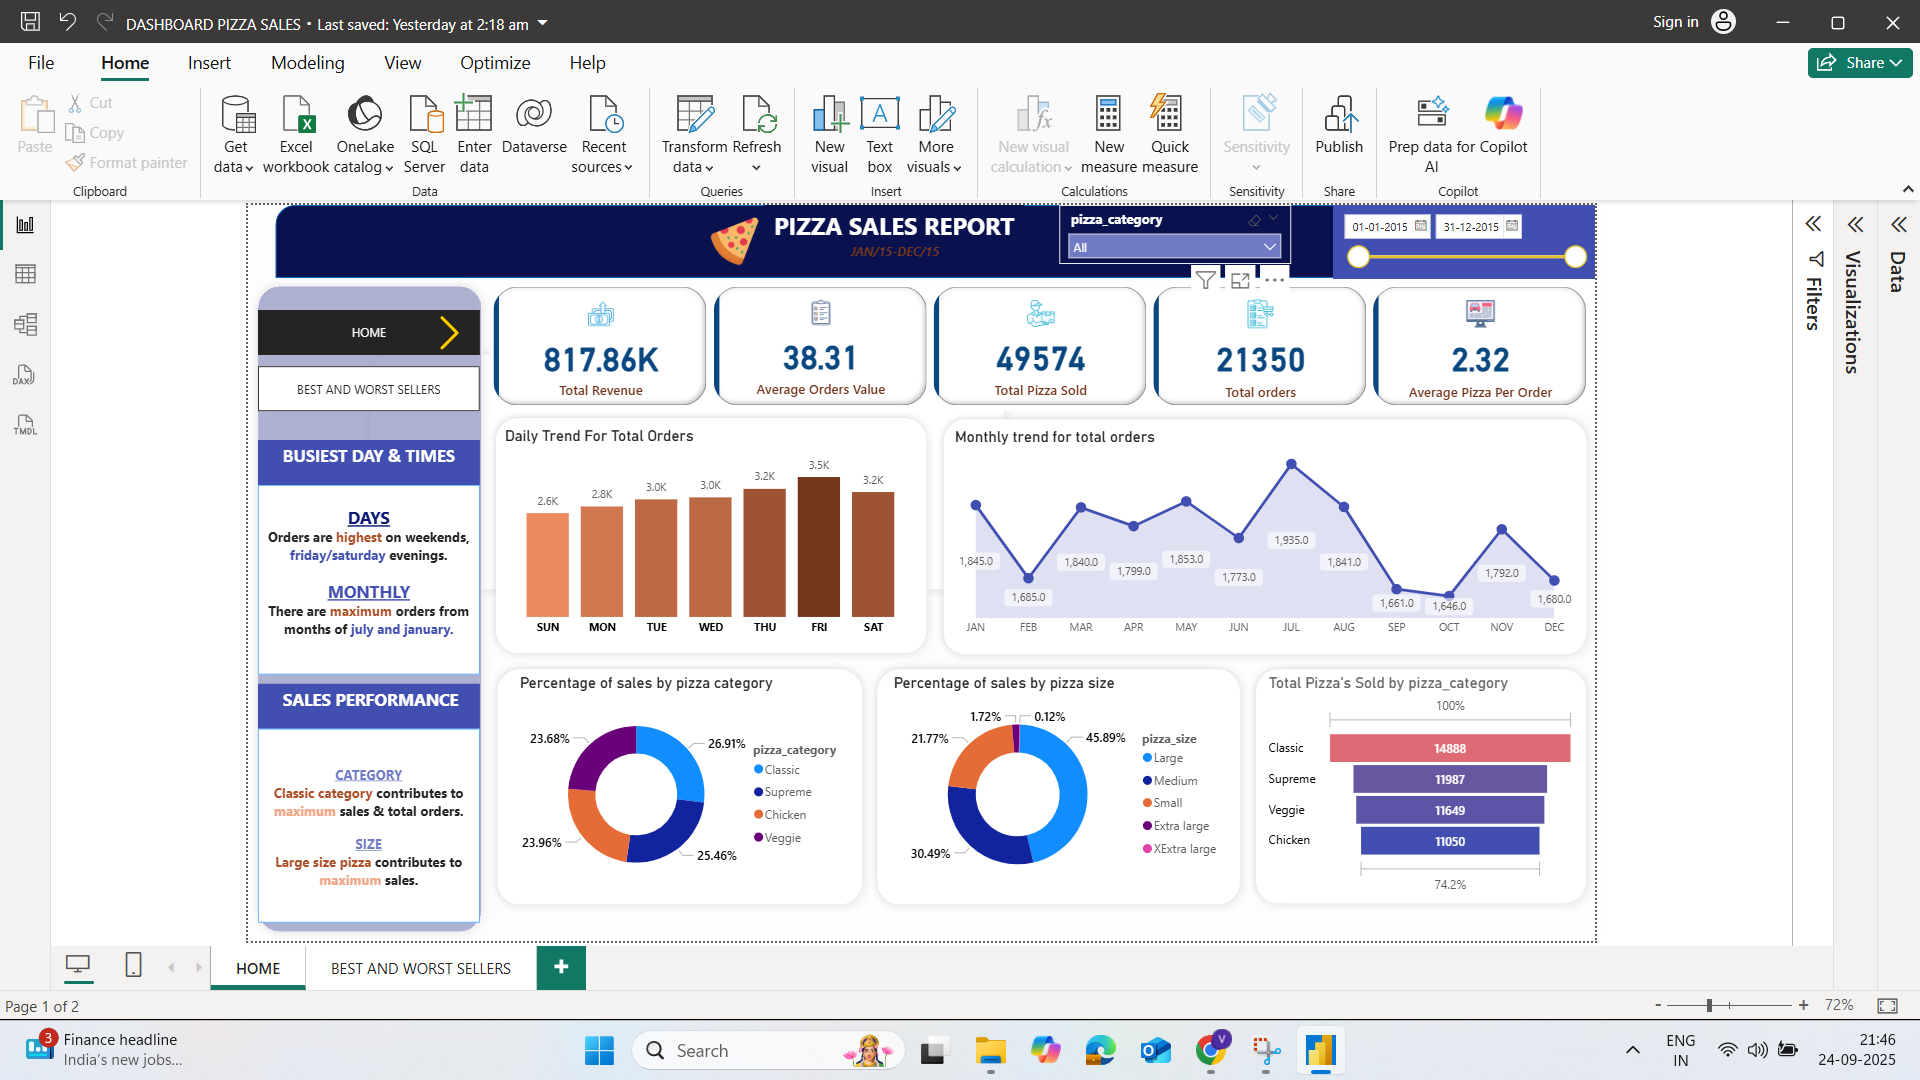

Layout of this report page (visuals, bound fields, positions):
{"tool":"powerbi","page":{"name":"HOME","canvas":[1500,820],"ordinal":0},"visuals":[{"type":"shape","box":[127.1,157.1,724.3,280],"z":0},{"type":"cardVisual","fields":{"Data":["pizza_sales.total revenue","pizza_sales.average order value","pizza_sales.total pizza sold","pizza_sales.Total orders","pizza_sales.average pizza per order"]},"box":[268.6,85.7,1231.4,142.9],"z":1000},{"type":"shape","box":[30.7,0,1469.3,81.3],"z":2000},{"type":"textbox","box":[574.7,0,289.3,50.7],"z":3000},{"type":"textbox","box":[658.7,34.7,124,32],"z":4000},{"type":"shape","box":[1.4,81.4,268.6,738.6],"z":5000},{"type":"image","box":[509.3,0,65.3,81.3],"z":6000},{"type":"shape","box":[268,228,497.3,280],"z":7000},{"type":"columnChart","title":"Daily Trend For Total Orders","fields":{"Y":["pizza_sales.Total orders"],"Category":["pizza_sales.ORDER DAY"]},"box":[281.3,246.7,469.3,242.7],"z":8000},{"type":"shape","box":[692.2,508.3,422,279.9],"z":9000},{"type":"shape","box":[268.6,508.6,424.3,280],"z":10000},{"type":"shape","box":[1114.3,508.6,385.7,278.6],"z":11000},{"type":"donutChart","title":"Percentage of sales by pizza category","fields":{"Category":["pizza_sales.pizza_category"],"Y":["pizza_sales.Total Revenue"]},"box":[298.6,522.9,378.6,250],"z":12000},{"type":"donutChart","title":"Percentage of sales by pizza size","fields":{"Y":["pizza_sales.Total Revenue"],"Category":["pizza_sales.pizza_size"]},"box":[714.3,522.9,378.6,250],"z":13000},{"type":"shape","box":[765.7,230,734.3,280],"z":14000},{"type":"slicer","title":"Monthly Trend For Total Orders","fields":{"Values":["pizza_sales.order_date"]},"box":[1208.6,0,291.4,81.4],"z":15000},{"type":"funnel","title":"Total Pizza''s Sold by pizza_category","fields":{"Category":["pizza_sales.pizza_category"],"Y":["pizza_sales.Total Pizza Sold"]},"box":[1132.9,522.9,351.4,250],"z":16000},{"type":"textbox","box":[11.4,261.4,247.1,50],"z":17000},{"type":"textbox","box":[11.4,311.4,247.1,211.4],"z":18000},{"type":"textbox","box":[11.4,532.9,247.1,50],"z":19000},{"type":"textbox","box":[11.4,582.9,247.1,215.7],"z":20000},{"type":"slicer","fields":{"Values":["pizza_sales.pizza_category"]},"box":[904.3,0,257.1,65.7],"z":21000},{"type":"stackedAreaChart","title":"Monthly trend for total orders","fields":{"Y":["pizza_sales.Total orders"],"Category":["pizza_sales.order month"]},"box":[782.9,248.6,701.4,241.4],"z":22000},{"type":"pageNavigator","box":[11.4,117.1,247.1,50],"z":23000},{"type":"pageNavigator","box":[11.4,180,247.1,50],"z":24000},{"type":"image","box":[200,107.1,48.6,70],"z":25000}]}

Visuals, with their boxes on the page's 1500x820 design canvas (x1, y1, x2, y2). These are canvas units, not pixel positions in the 1920x1080 screenshot, which may show the page scaled, cropped or inside an application window:
shape: [127, 157, 851, 437]
cardVisual - pizza_sales.total revenue x pizza_sales.average order value: [269, 86, 1500, 229]
shape: [31, 0, 1500, 81]
textbox: [575, 0, 864, 51]
textbox: [659, 35, 783, 67]
shape: [1, 81, 270, 820]
image: [509, 0, 575, 81]
shape: [268, 228, 765, 508]
"Daily Trend For Total Orders" columnChart: [281, 247, 751, 489]
shape: [692, 508, 1114, 788]
shape: [269, 509, 693, 789]
shape: [1114, 509, 1500, 787]
"Percentage of sales by pizza category" donutChart: [299, 523, 677, 773]
"Percentage of sales by pizza size" donutChart: [714, 523, 1093, 773]
shape: [766, 230, 1500, 510]
"Monthly Trend For Total Orders" slicer: [1209, 0, 1500, 81]
"Total Pizza''s Sold by pizza_category" funnel: [1133, 523, 1484, 773]
textbox: [11, 261, 258, 311]
textbox: [11, 311, 258, 523]
textbox: [11, 533, 258, 583]
textbox: [11, 583, 258, 799]
slicer - pizza_sales.pizza_category: [904, 0, 1161, 66]
"Monthly trend for total orders" stackedAreaChart: [783, 249, 1484, 490]
pageNavigator: [11, 117, 258, 167]
pageNavigator: [11, 180, 258, 230]
image: [200, 107, 249, 177]
